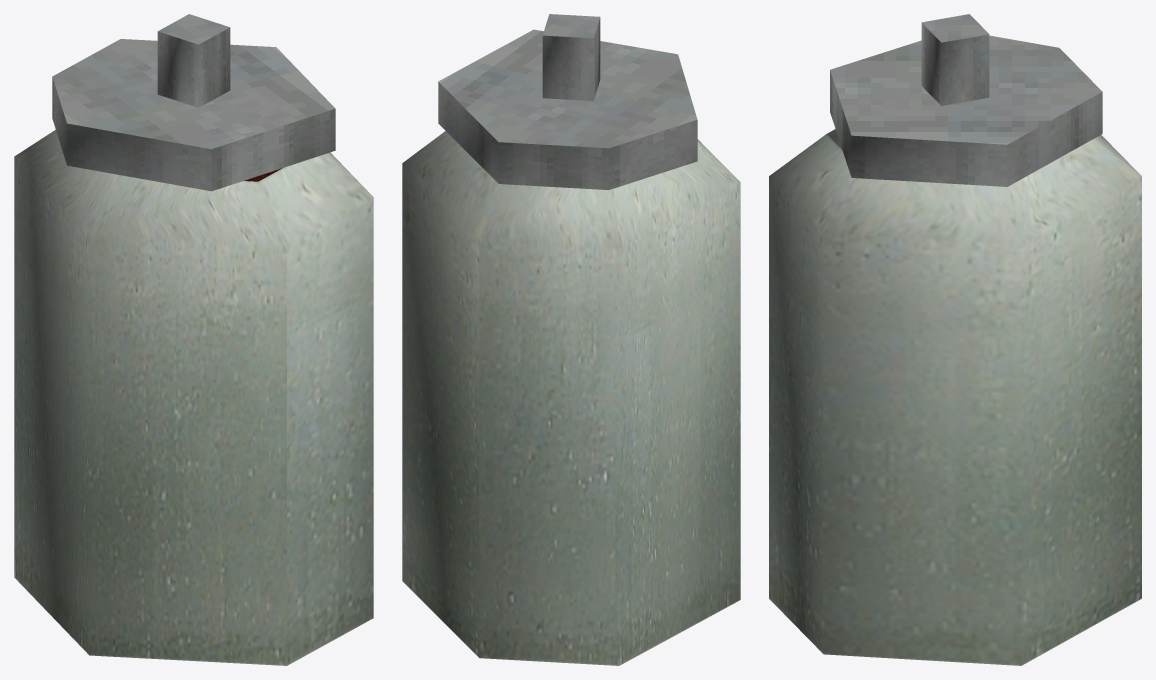
File: edb_con_tato_jar_guts_s01_l1.fbx
3 views of the same model, side by side, from view 1: azimuth 30°, elevation 25°; view 2: azimuth 150°, elevation 25°; view 3: azimuth 270°, elevation 25° (orthographic).
Visible parts, largest first — view 1: mesh_node; view 2: mesh_node; view 3: mesh_node.
Part boxes in pixels (x1=…): mesh_node: x1=14, y1=14, x2=373, y2=665; mesh_node: x1=402, y1=14, x2=740, y2=665; mesh_node: x1=769, y1=14, x2=1141, y2=665.
Size of the model in its own units: 0.1707 by 0.3375 by 0.2.
